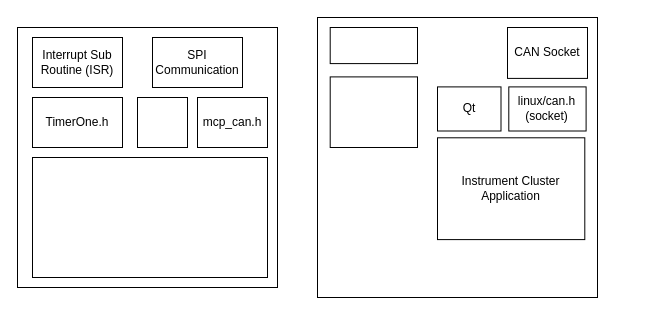
This 665x323 diagram has some shape labels left out. Each missing label, with the centre of its shape:
"Arduino Code" belongs at (150,217).
"controller.py" belongs at (373,112).
"piracer" belongs at (373,45).
"spi.h" belongs at (162,122).
